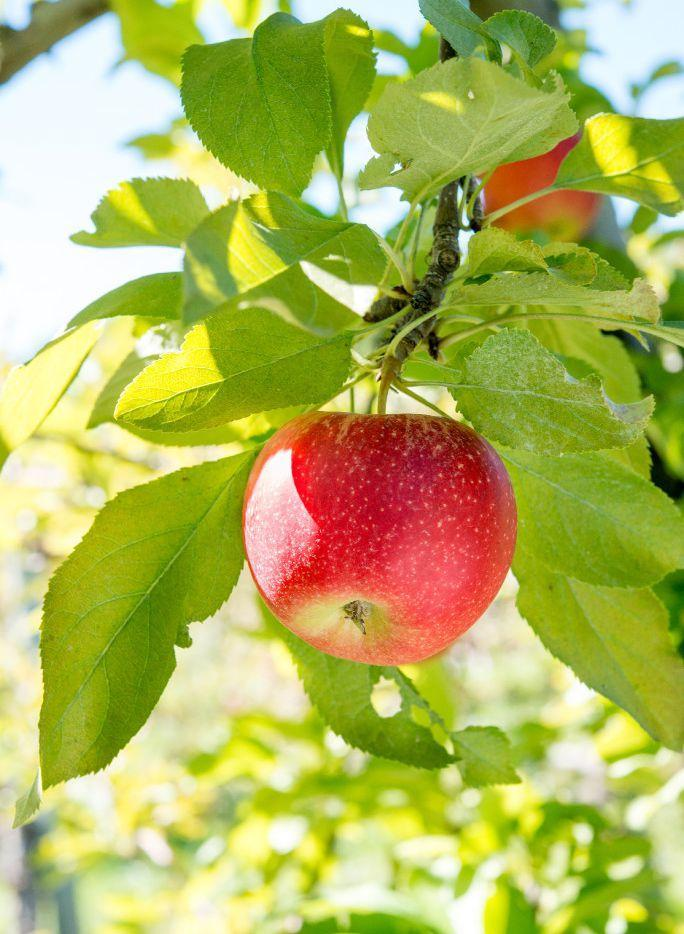apple: (241, 407, 520, 668)
